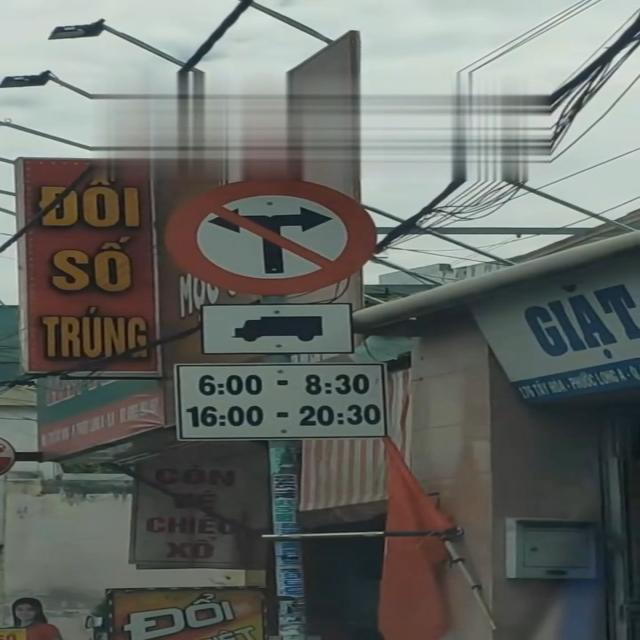137-cam-re-trai-va-re-phai: (168, 172, 376, 290)
